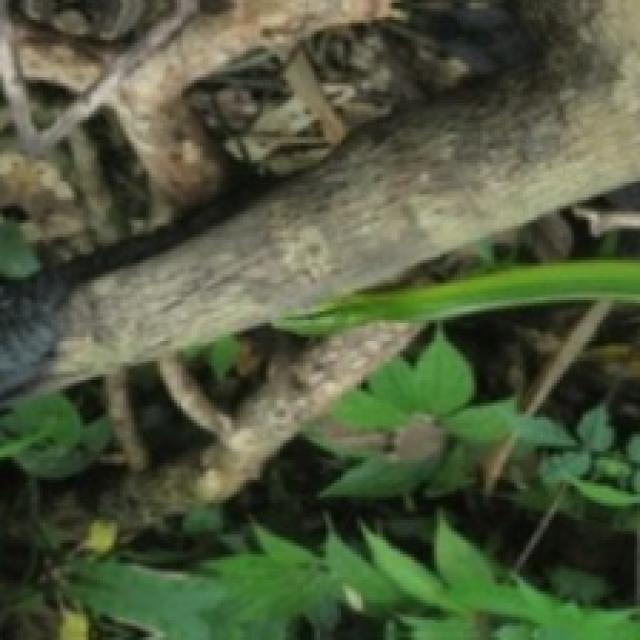red-tailed green ratsnake: (278, 261, 640, 334)
